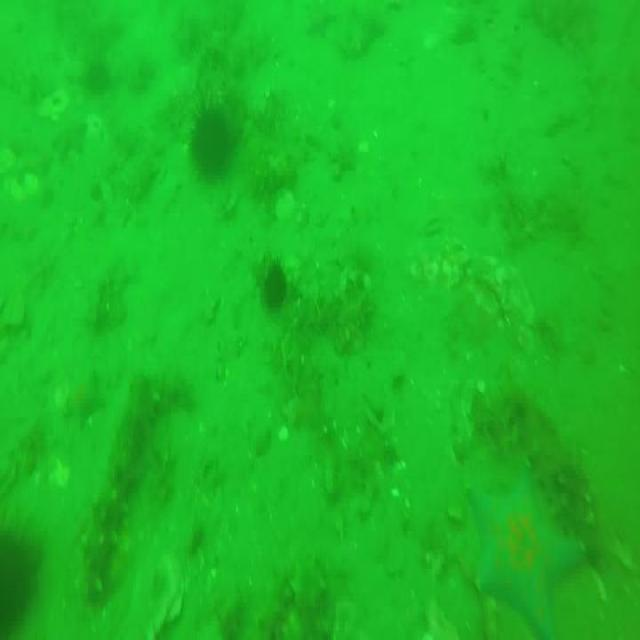echinus: (3, 520, 39, 640), (190, 87, 230, 183), (266, 253, 289, 314), (78, 60, 111, 96)
holothurian: (78, 382, 158, 592), (505, 400, 604, 553), (277, 558, 329, 640)
starfish: (467, 452, 585, 640)
